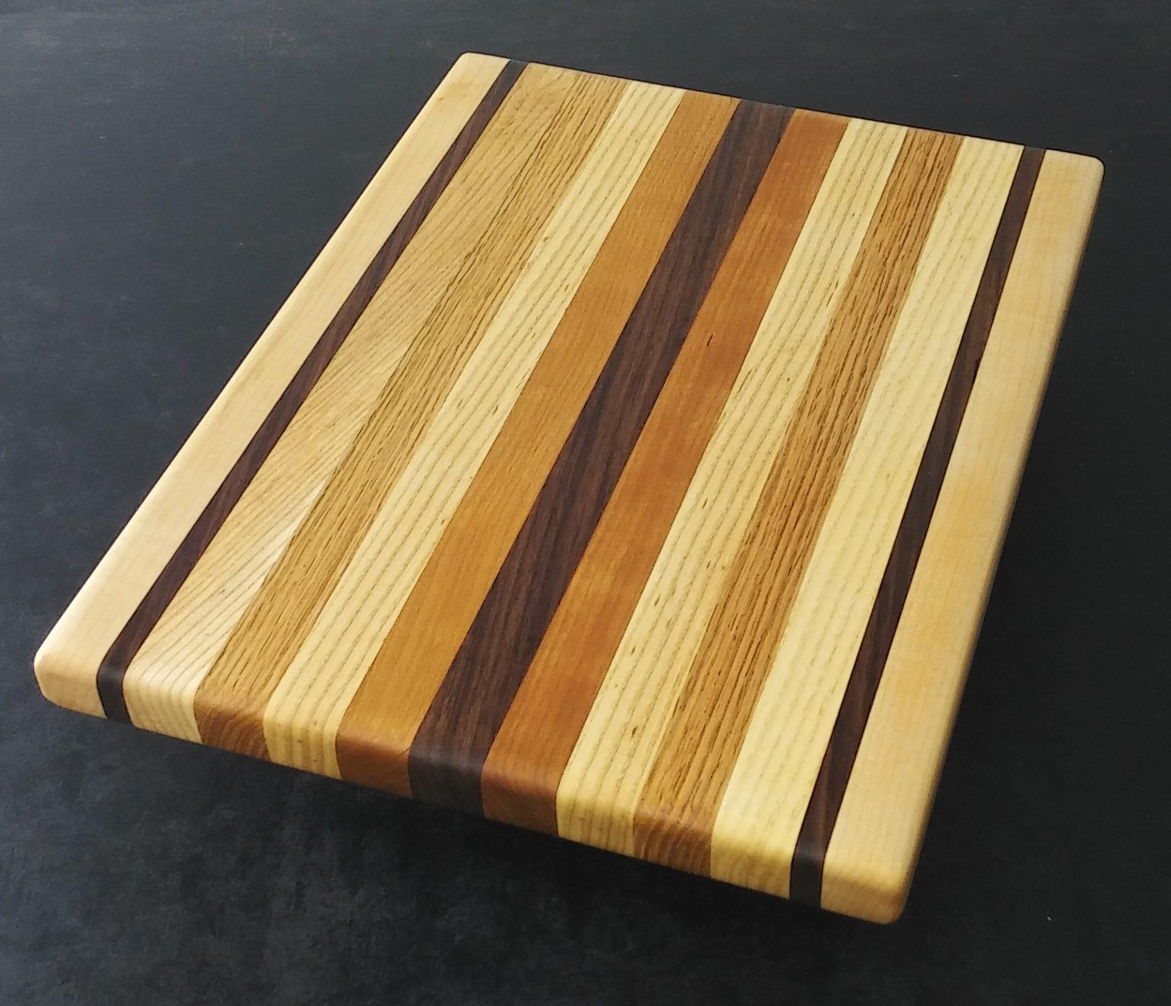gloved_hand: (12, 23, 1118, 946)
